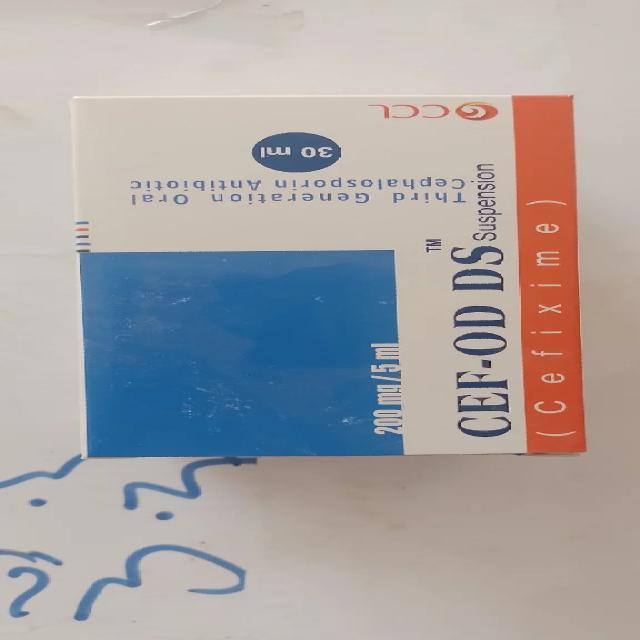drug-name: (443, 246, 517, 441)
